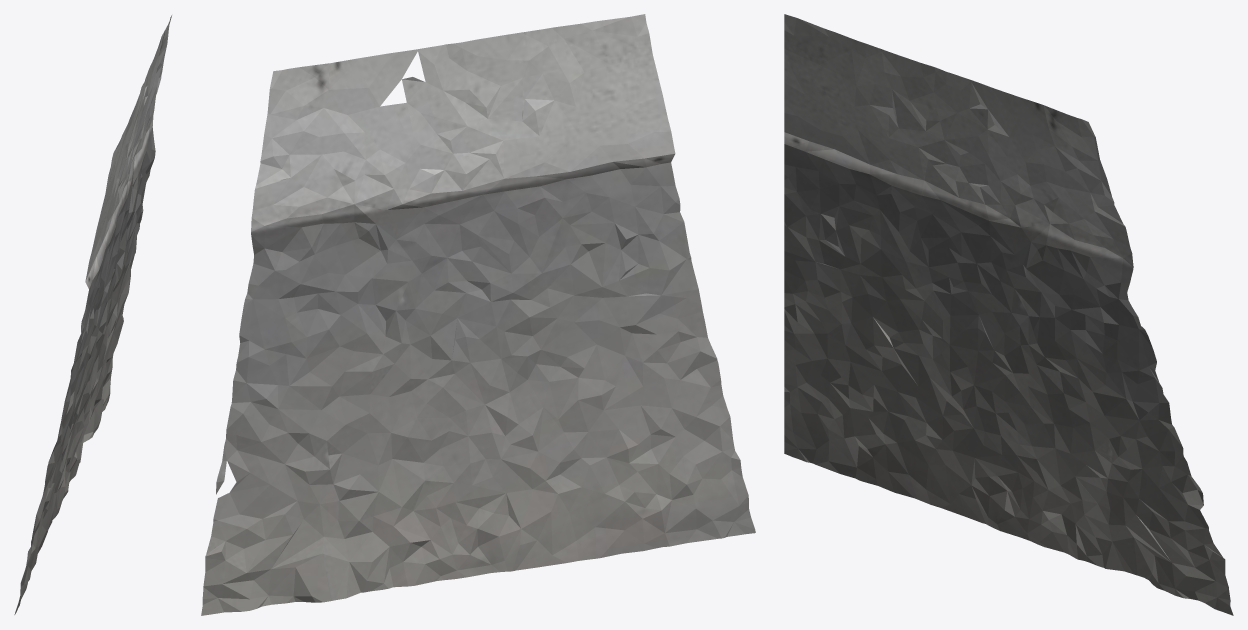
The picture shows the model from 3 angles, left to right: view 1: azimuth 30°, elevation 25°; view 2: azimuth 150°, elevation 25°; view 3: azimuth 270°, elevation 25°; orthographic projection. The views are drawn at different scales.
Size of the model in its own units: 0.5896 by 0.8374 by 0.6904.
Materials: 2 (2 with a texture image).
